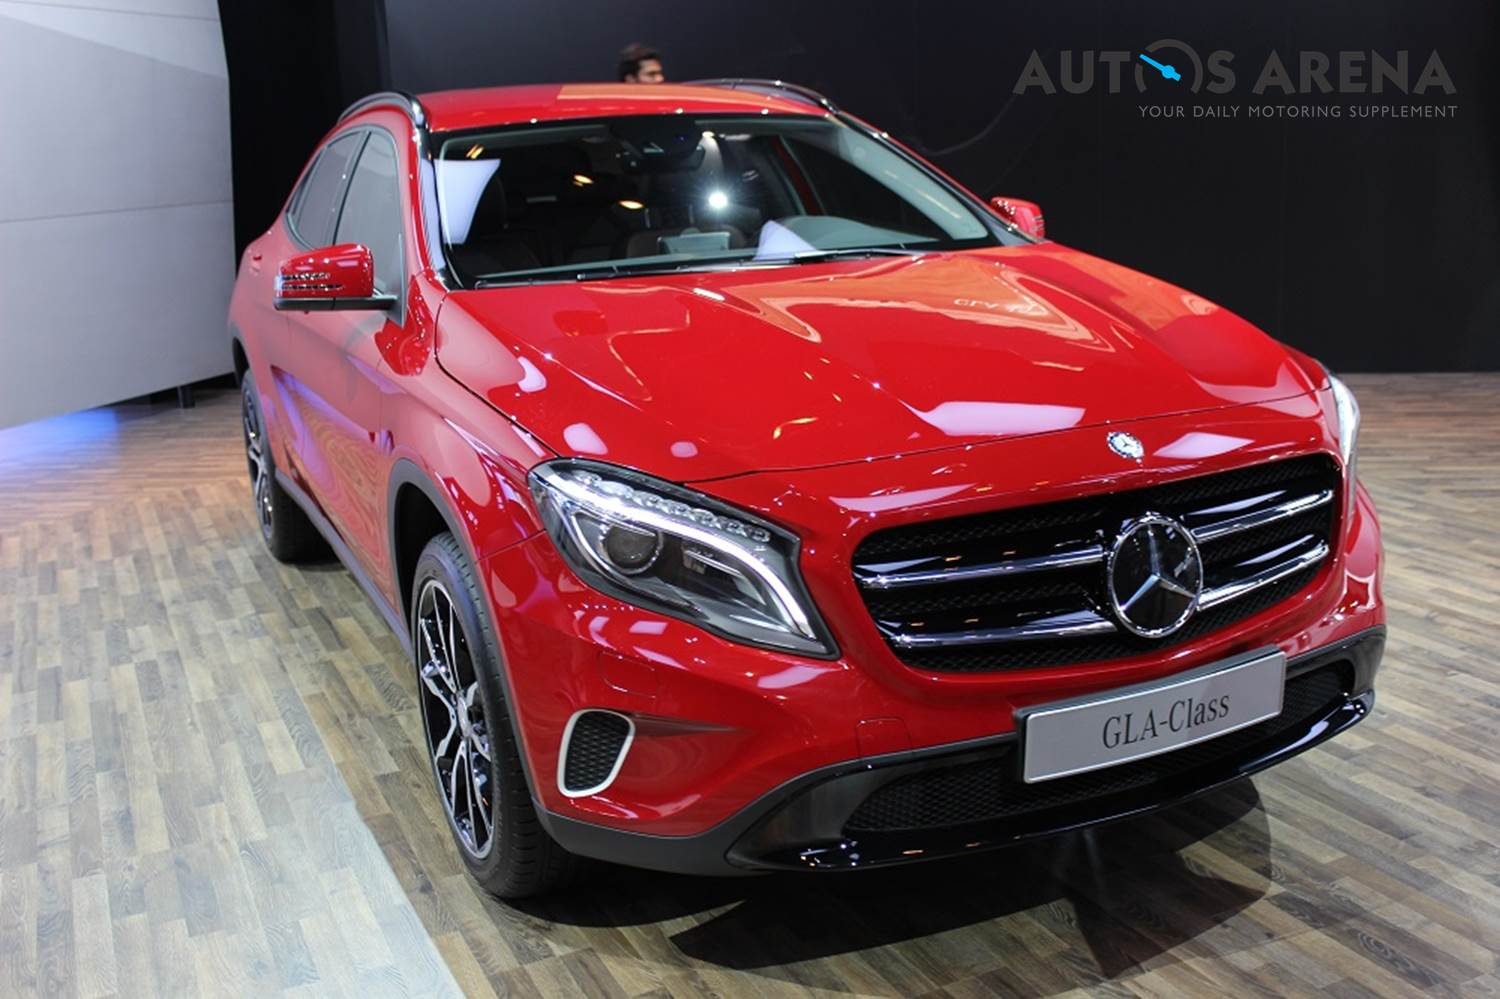gla: (204, 68, 1438, 940)
